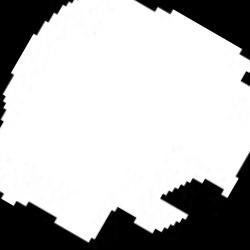spot: (0, 0, 246, 241)
